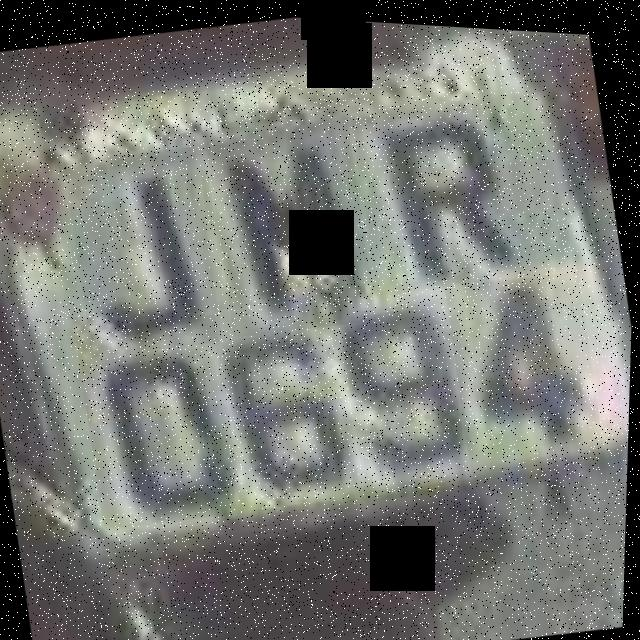0: (72, 304, 251, 533)
4: (441, 258, 612, 473)
6: (187, 285, 374, 523)
9: (315, 272, 498, 490)
J: (60, 138, 229, 361)
M: (205, 104, 390, 335)
N: (198, 97, 383, 340)
R: (368, 92, 546, 303)
